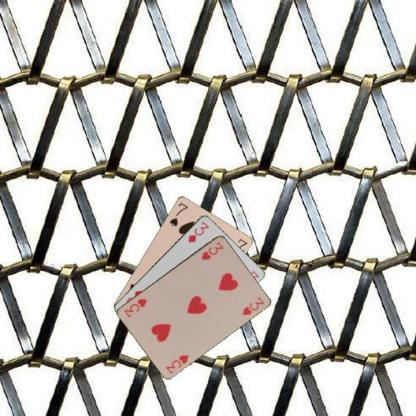3d: (186, 218, 210, 244)
3h: (199, 239, 225, 261), (164, 352, 190, 374)
7s: (167, 200, 189, 228)
